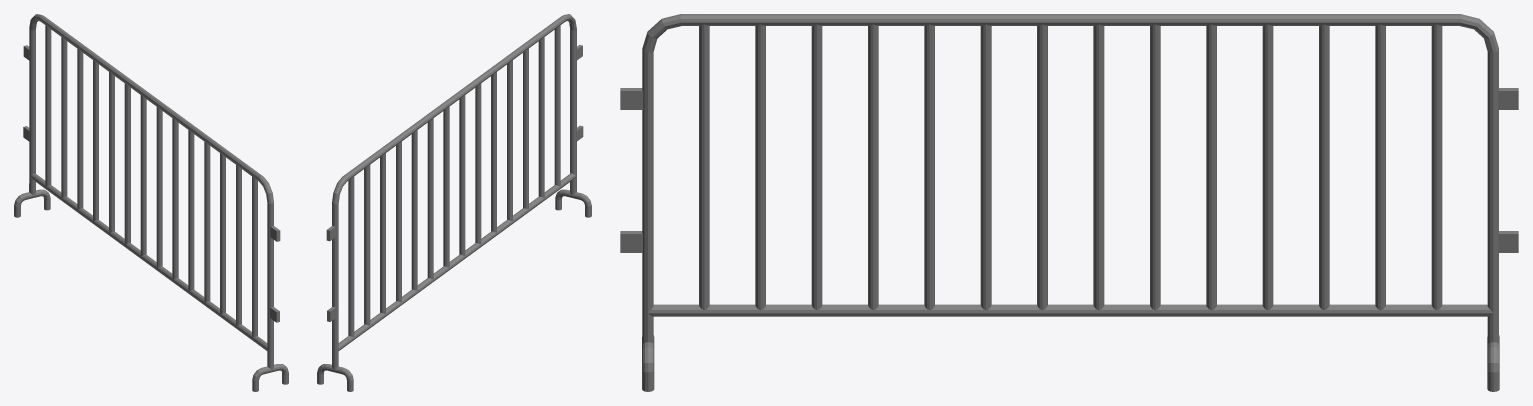
File: Safety_Barrier_002.fbx
3 renders of one model, left to right at view 1: azimuth 30°, elevation 25°; view 2: azimuth 150°, elevation 25°; view 3: azimuth 270°, elevation 25°, orthographic. The views are drawn at different scales.
Parts seen in each view (by area): view 1: Safety Barrier.002; view 2: Safety Barrier.002; view 3: Safety Barrier.002.
Part boxes in pixels (x1,y1,x2,y2): Safety Barrier.002: (14, 14, 288, 391); Safety Barrier.002: (317, 14, 591, 391); Safety Barrier.002: (620, 14, 1518, 391).
Size of the model in its own units: 75.7 by 413 by 930.
